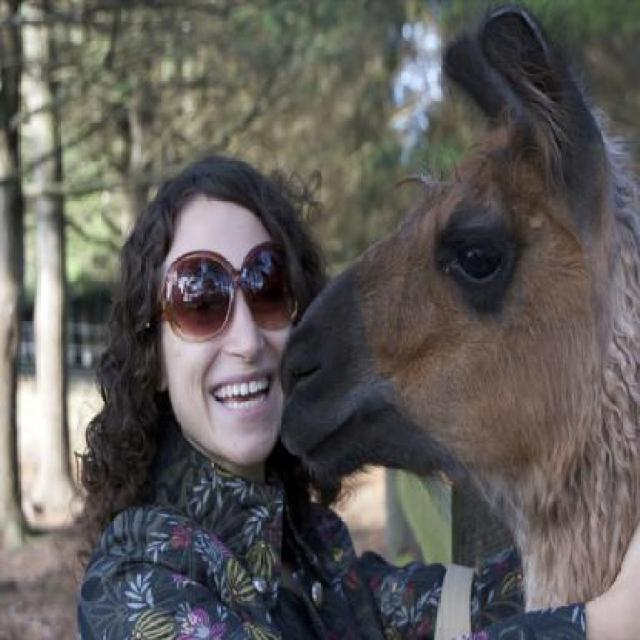face_nomask: (166, 252, 296, 434)
glasses: (153, 239, 301, 338)
head_nohelmet: (145, 148, 290, 222)
